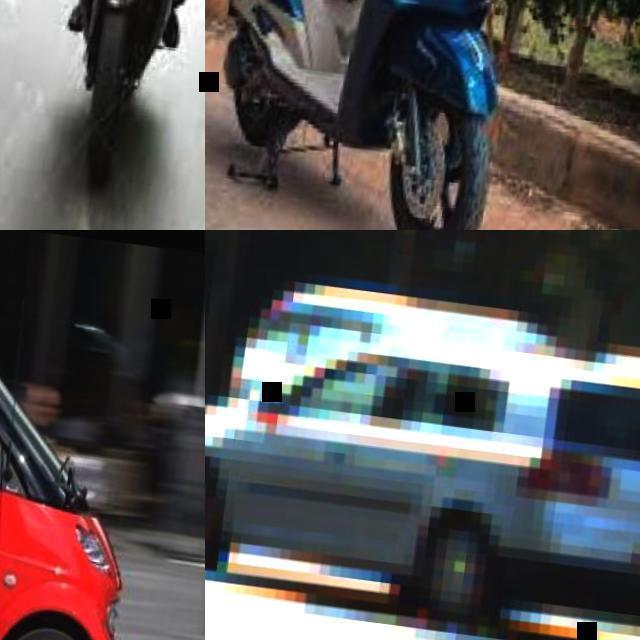car: (1, 368, 126, 639)
